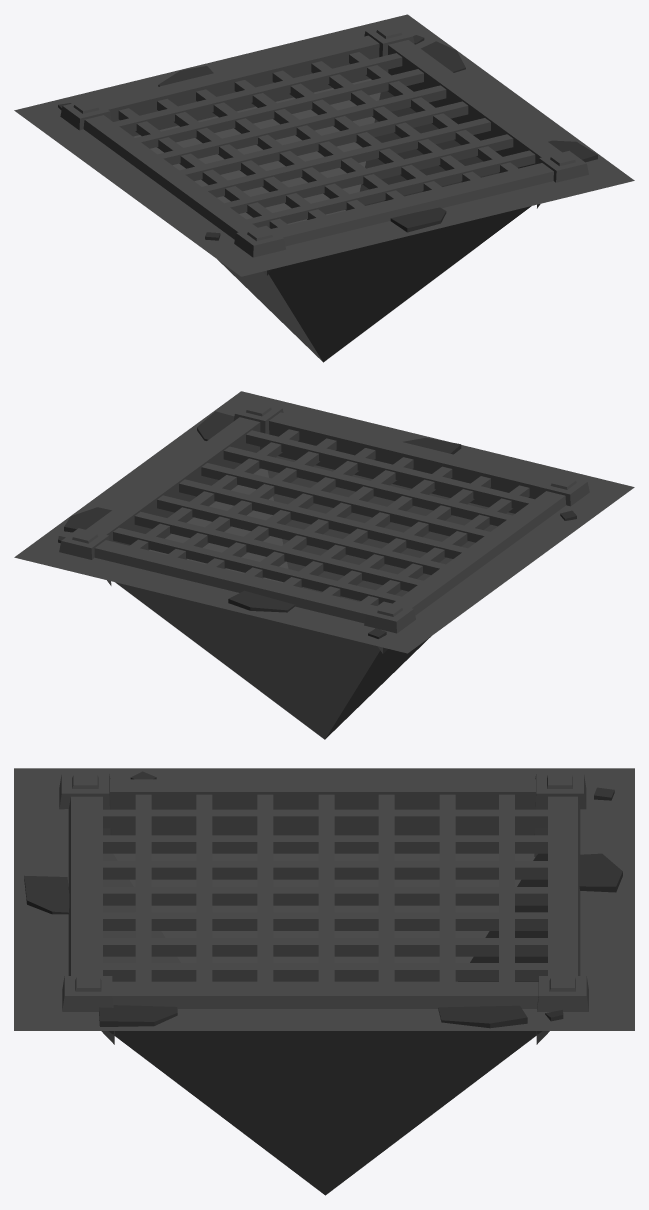
Rendered from Floor_Grate.fbx.
3 views of the same model, one above another, from view 1: azimuth 30°, elevation 25°; view 2: azimuth 150°, elevation 25°; view 3: azimuth 270°, elevation 25° (orthographic). The views are drawn at different scales.
Parts seen in each view (by area): view 1: Floor_Grate; view 2: Floor_Grate; view 3: Floor_Grate.
Boxes of the visible parts, x1,y1,x2,y2 form: Floor_Grate: (14,14,634,362); Floor_Grate: (14,391,634,739); Floor_Grate: (14,768,634,1195).
Bounding box in the file's own units: 100 × 55.93 × 100.
